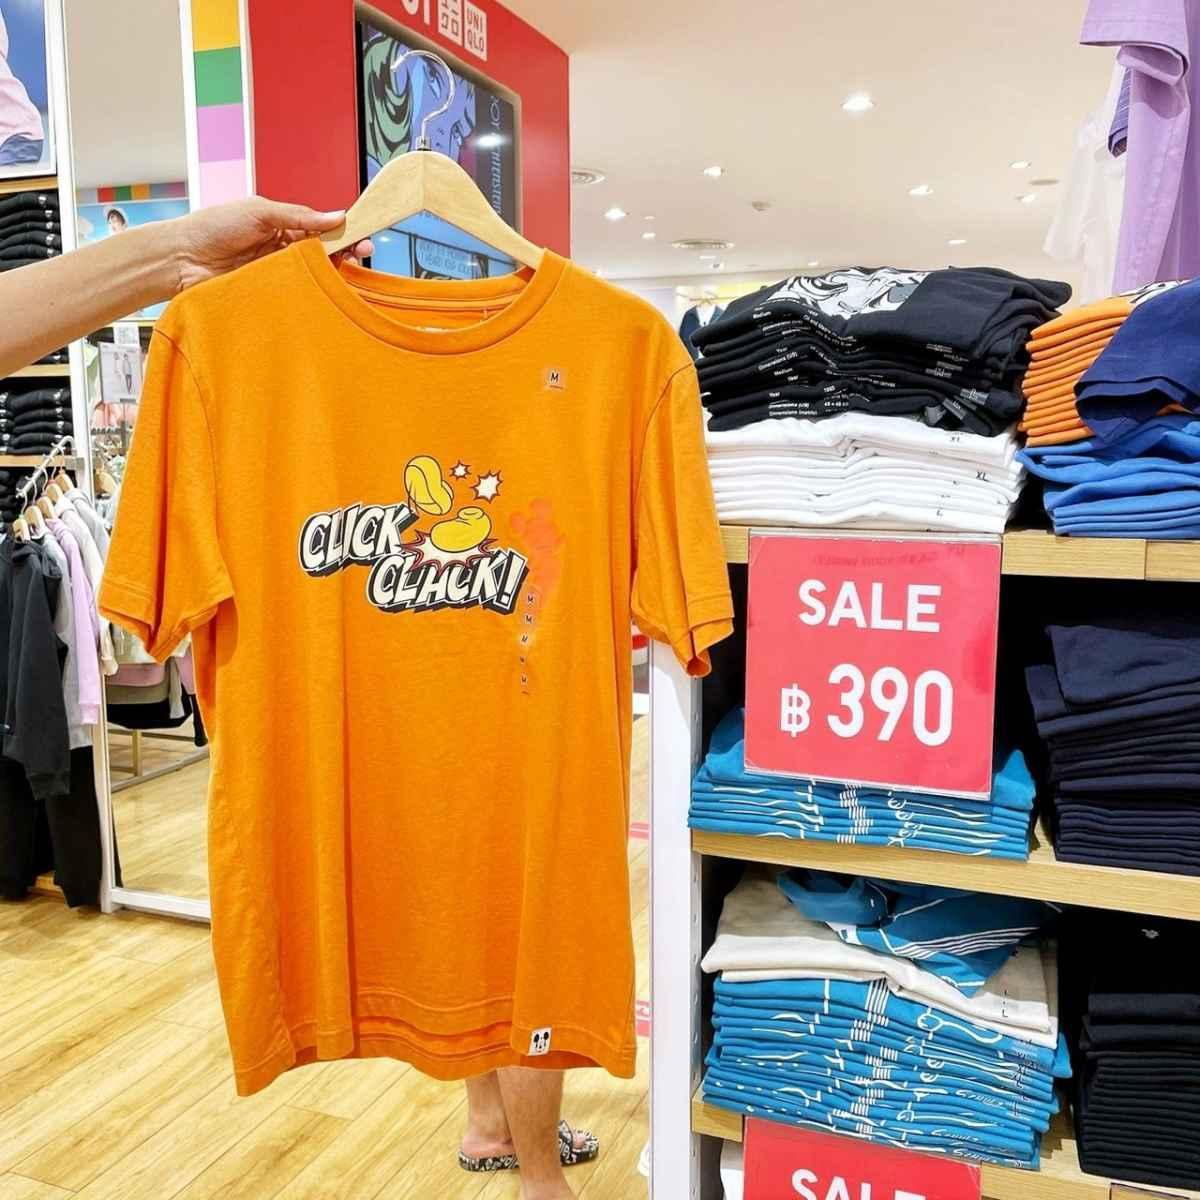Tshirt: (115, 204, 766, 1098)
